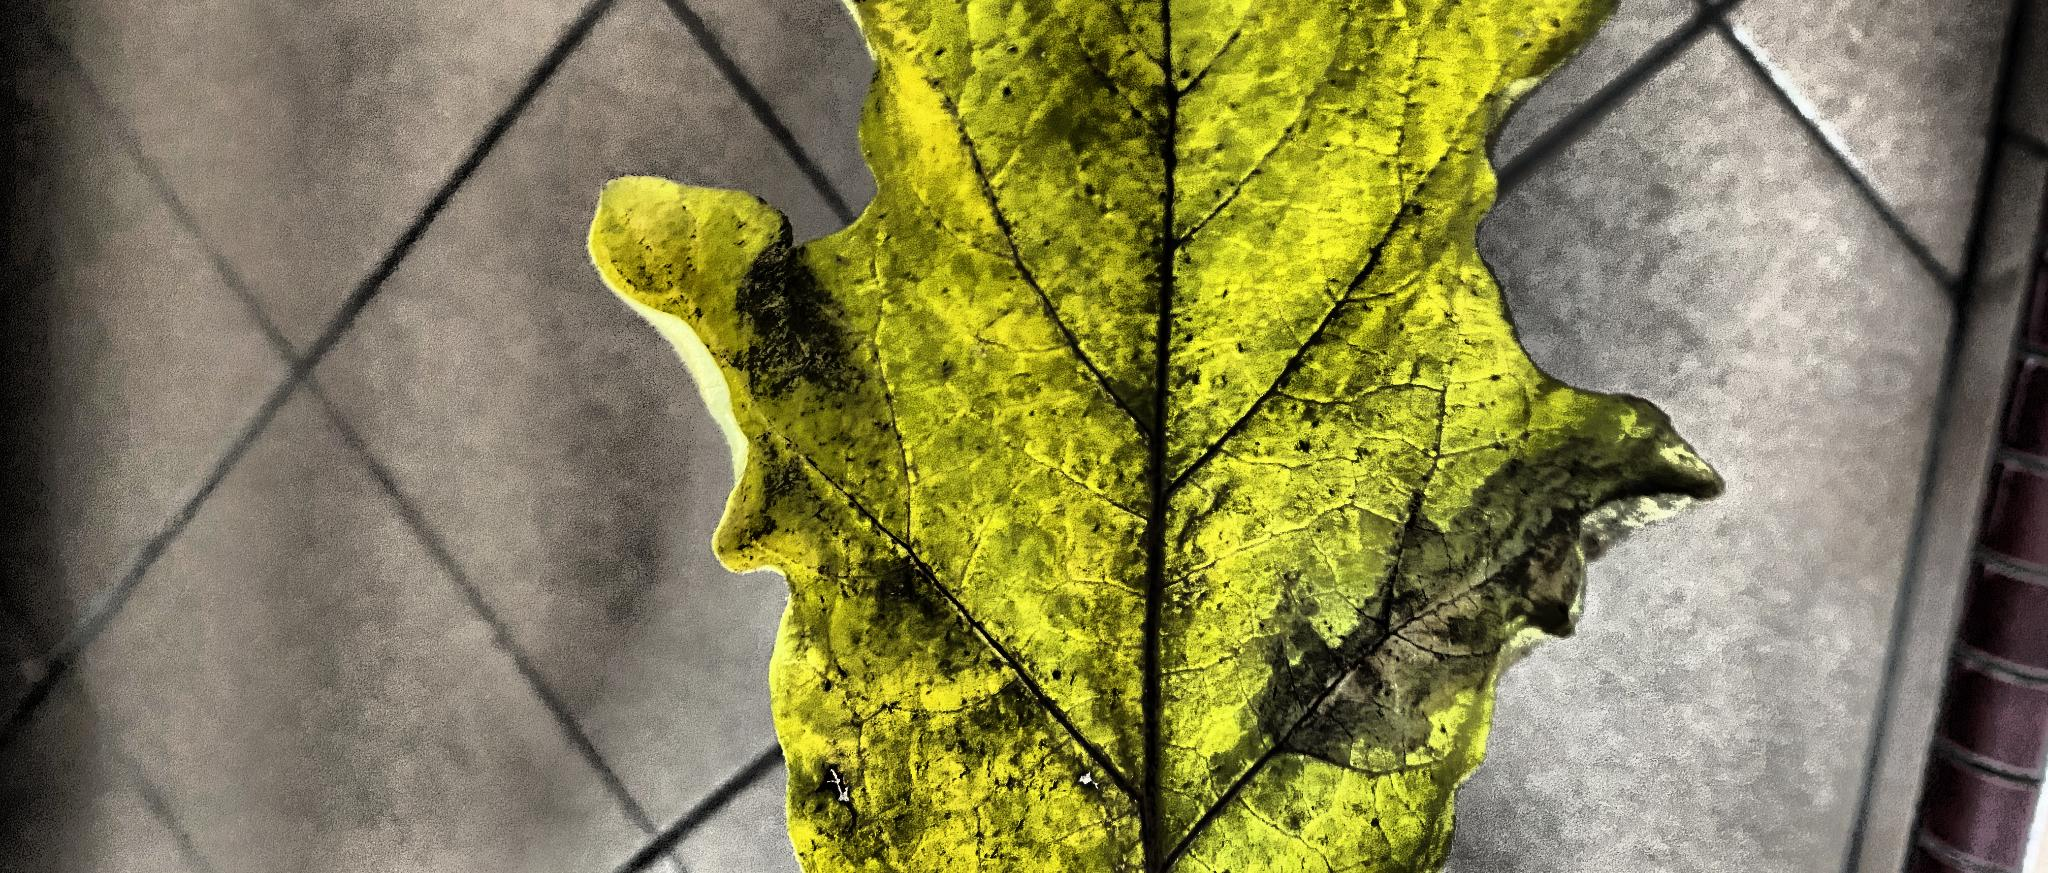Critical Stress: (0, 139, 1536, 873)
